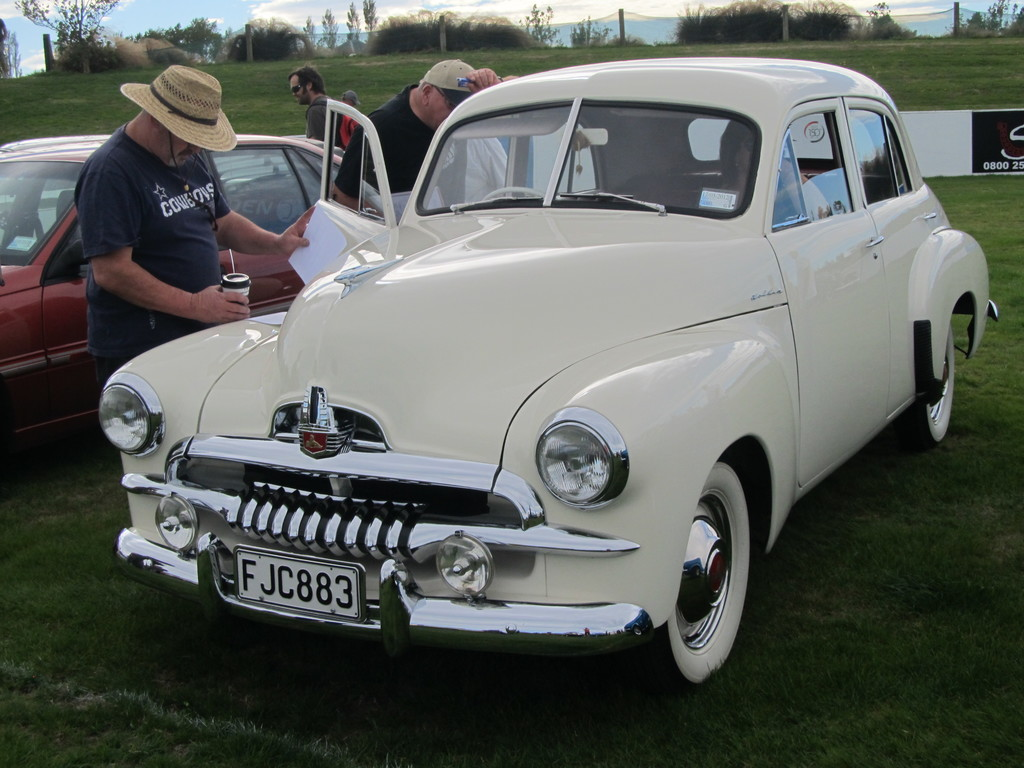Tree: (667, 0, 909, 48), (8, 0, 120, 72), (122, 16, 227, 66), (303, 0, 382, 55), (950, 0, 1024, 39), (514, 0, 565, 45)
